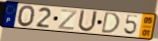2: (35, 7, 53, 29)
5: (122, 14, 140, 36)
D: (100, 12, 121, 35)
O: (17, 4, 37, 28)
U: (76, 9, 99, 33)
Z: (57, 8, 79, 31)
